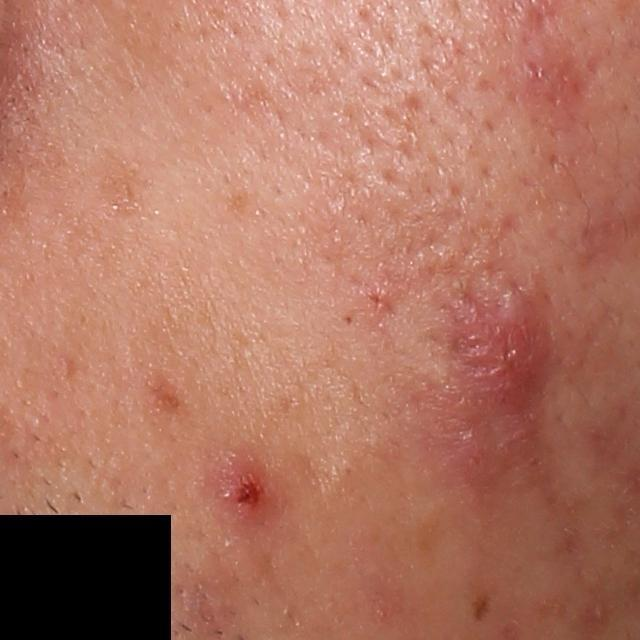nevus: (468, 586, 494, 625)
papule: (214, 454, 282, 551)
